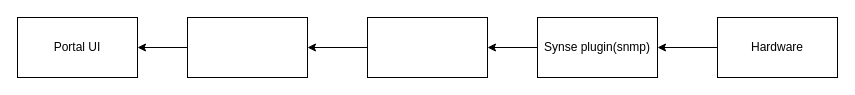
The diagram is 855 pixels wide and 95 high, and some of its shapes have lost their labels. The centre of each missing label's shape, as x and y in pixels:
Managment API: the point at 247,47
Synse Server: the point at 427,47
